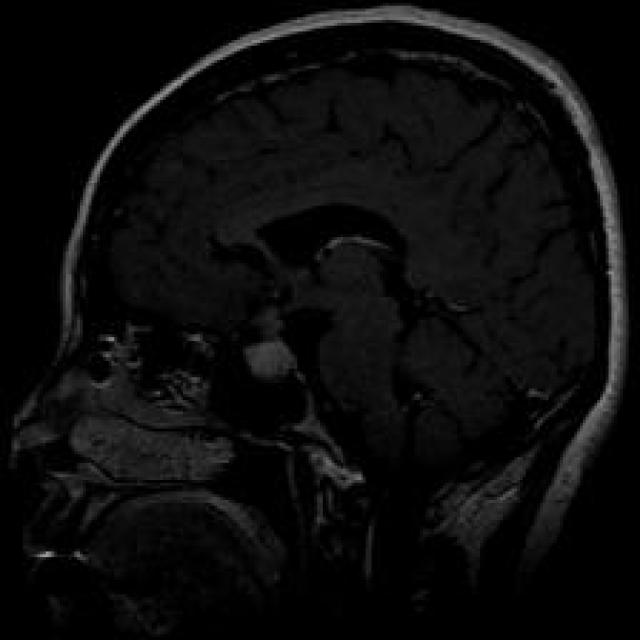pituitary_tumor: (224, 319, 322, 402)
